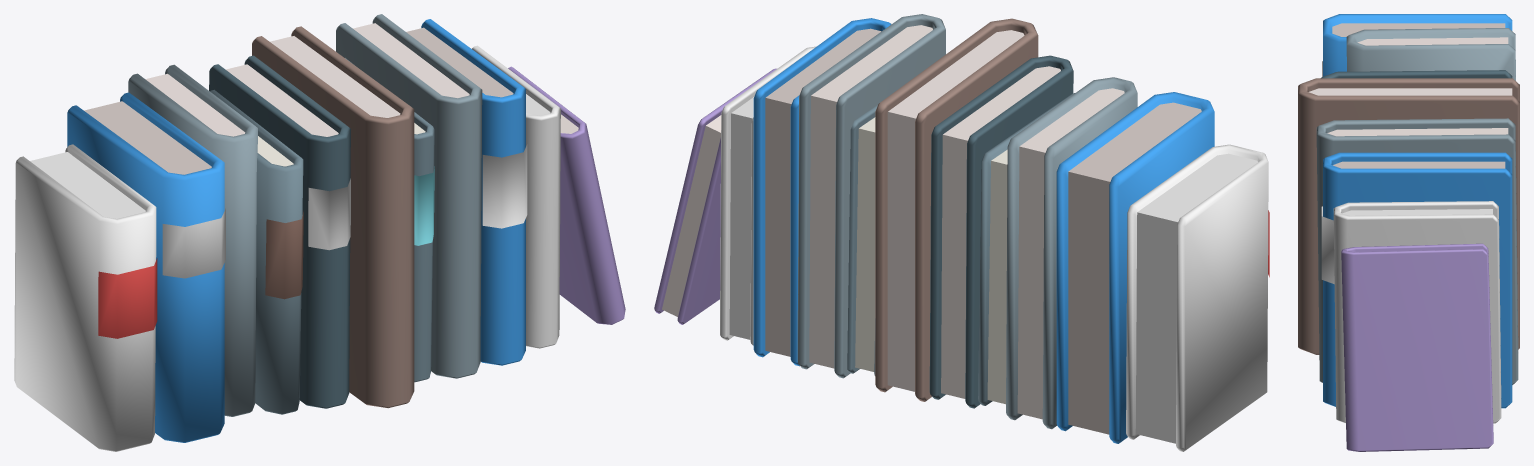
Rendered from prop_045.fbx.
3 renders of one model, left to right at view 1: azimuth 30°, elevation 25°; view 2: azimuth 150°, elevation 25°; view 3: azimuth 270°, elevation 25°, orthographic. The views are drawn at different scales.
Parts seen in each view (by area): view 1: prop_045; view 2: prop_045; view 3: prop_045.
Boxes of the visible parts, left/top/right/bottom form: prop_045: left=14, top=14, right=625, bottom=451; prop_045: left=654, top=14, right=1269, bottom=451; prop_045: left=1298, top=14, right=1519, bottom=451.
Size of the model in its own units: 82.45 by 33.16 by 42.44.
